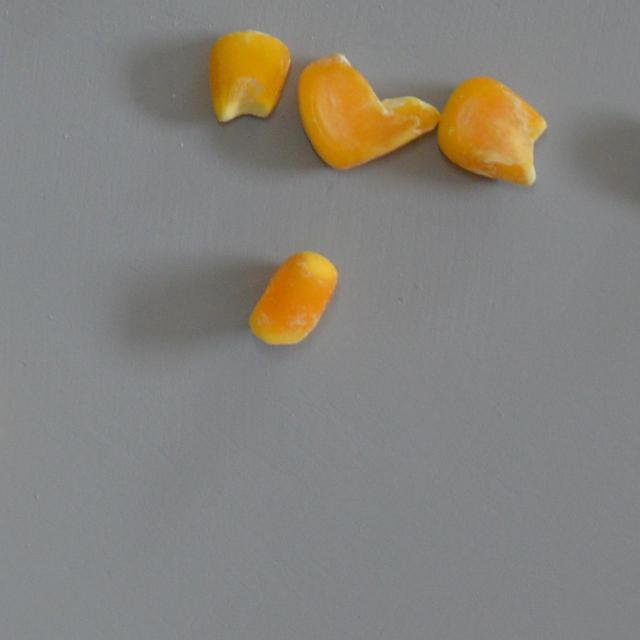dañado: (292, 50, 441, 174), (432, 72, 551, 190), (242, 243, 342, 351), (206, 28, 292, 125)
